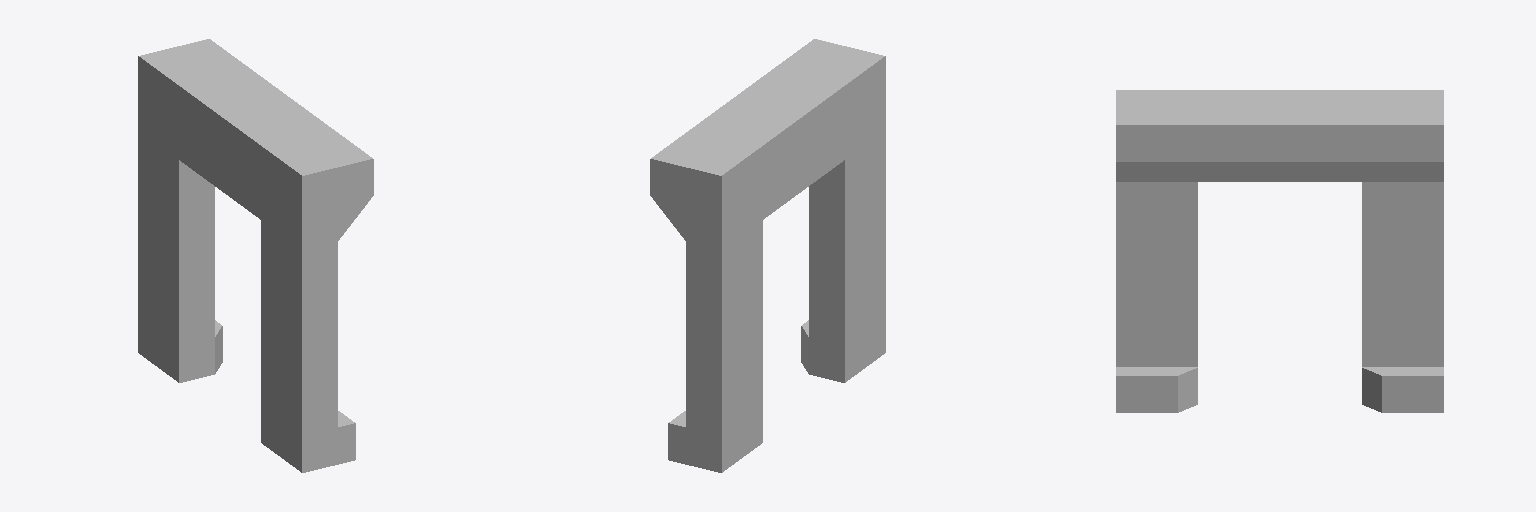
The model's file is spaceInterior_036.obj.
3 renders of one model, left to right at view 1: azimuth 30°, elevation 25°; view 2: azimuth 150°, elevation 25°; view 3: azimuth 270°, elevation 25°, orthographic.
Parts seen in each view (by area): view 1: Mesh1 Group1 Model; view 2: Mesh1 Group1 Model; view 3: Mesh1 Group1 Model.
Part boxes in pixels (x1,y1,x2,y2): Mesh1 Group1 Model: (138, 39, 373, 472); Mesh1 Group1 Model: (650, 39, 885, 472); Mesh1 Group1 Model: (1116, 90, 1443, 412).
Bounding box in the file's own units: 0.25 × 1 × 1.